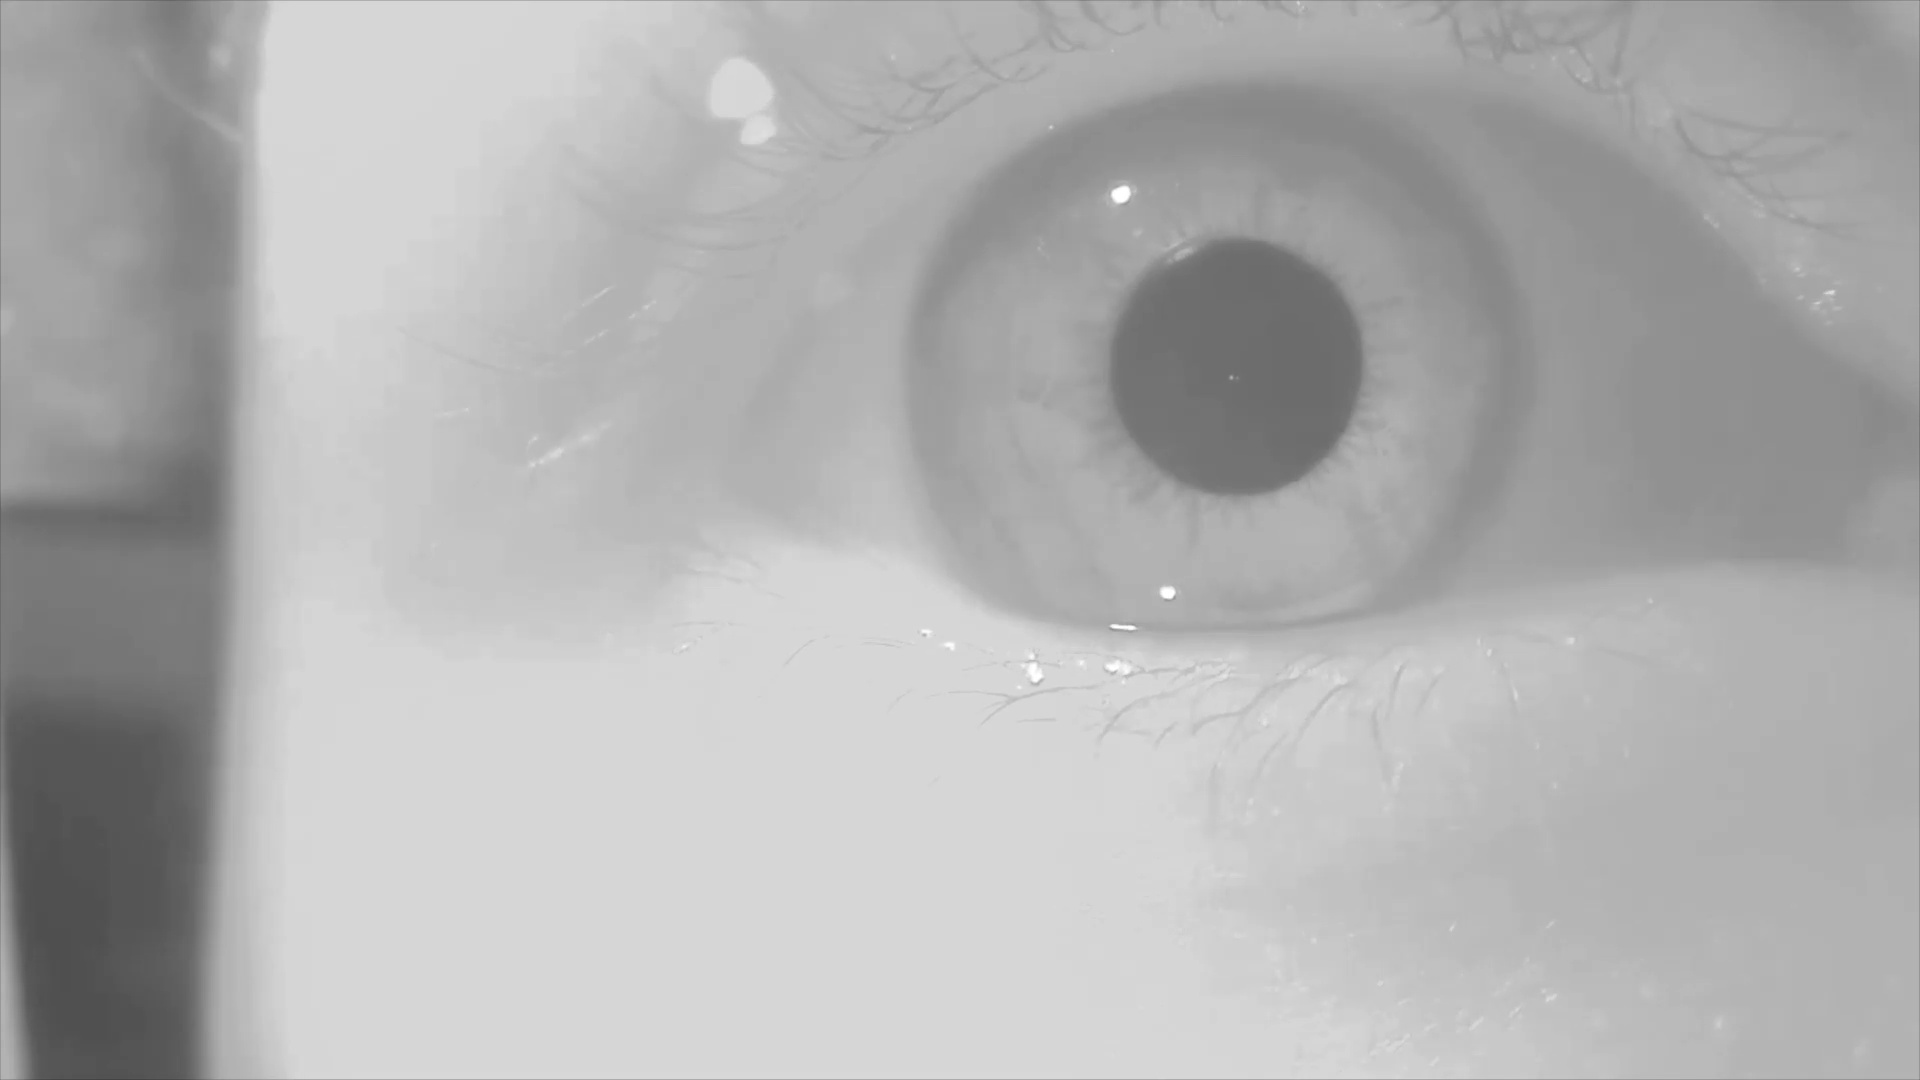pupil: (1109, 238, 1361, 498)
